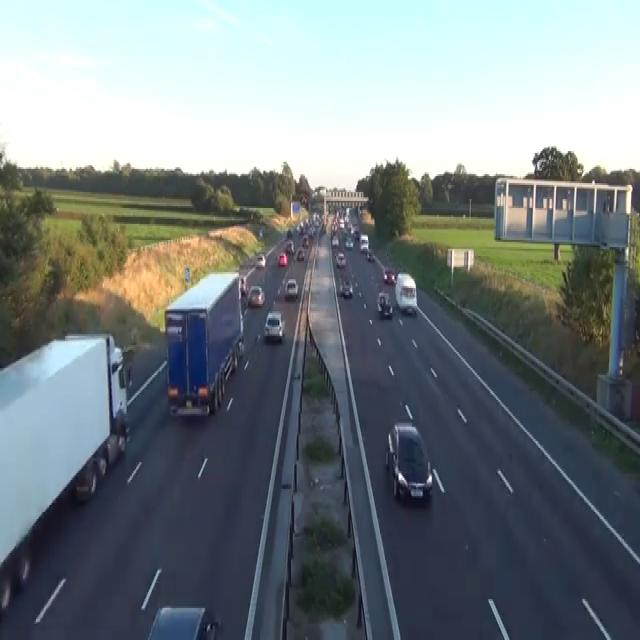Car: (385, 421, 432, 503), (74, 427, 126, 501), (146, 604, 218, 638), (0, 542, 32, 615), (264, 311, 285, 341), (376, 290, 393, 318), (247, 284, 265, 308), (237, 311, 244, 357), (284, 277, 298, 299), (339, 279, 352, 297), (383, 266, 395, 284), (255, 252, 266, 268), (335, 250, 346, 266), (278, 250, 287, 266), (240, 276, 247, 295), (344, 236, 354, 249), (285, 240, 294, 254), (296, 247, 304, 261), (351, 226, 360, 238), (366, 249, 374, 261), (331, 235, 339, 247), (301, 235, 309, 247), (300, 194, 307, 204), (286, 228, 292, 238), (339, 217, 344, 227), (258, 228, 262, 238)
Truck: (0, 331, 130, 613), (164, 270, 244, 418), (395, 272, 417, 313)
